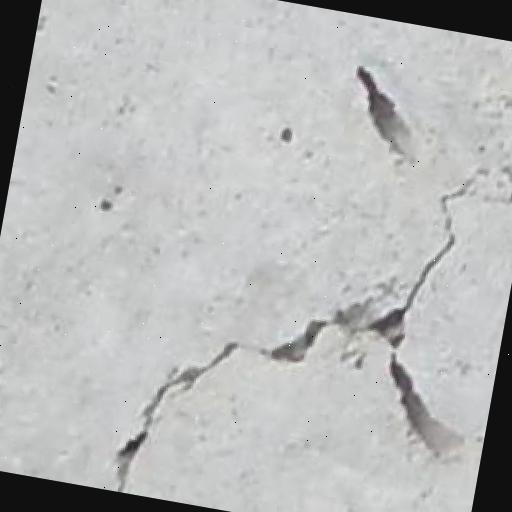spalling: (88, 150, 512, 487)
